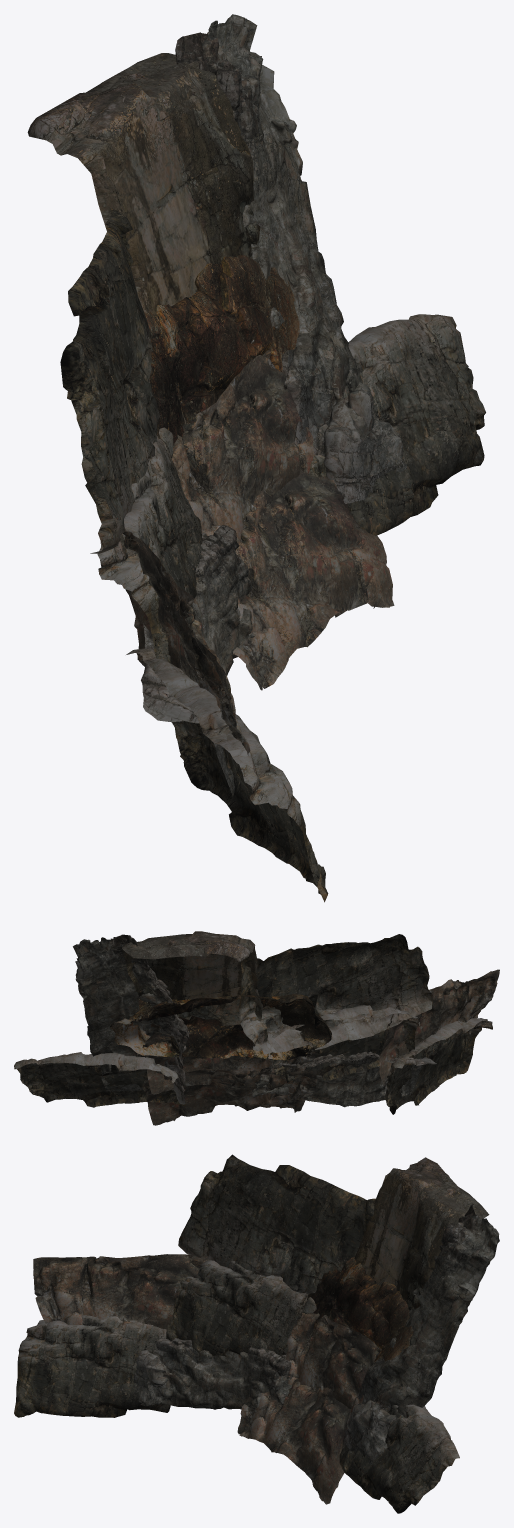
The model's file is Tempcliffs.fbx.
3 views of the same model, one above another, from view 1: azimuth 30°, elevation 25°; view 2: azimuth 150°, elevation 25°; view 3: azimuth 270°, elevation 25° (orthographic). The views are drawn at different scales.
Visible parts, largest first — view 1: qjycI_LOD0_TIER3_001.002, Rock1.003, Rock4.004, Rock6.004, Rock6.005, Rock2.002, Rock4.003, Rock6.002, Rock6.003, Rock1.002, Rock4.002; view 2: Rock6.004, Rock1.003, qjycI_LOD0_TIER3_001.002, Rock2.002, Rock6.005, Rock4.004, Rock6.002, Rock1.002, Rock4.002, Rock6.003, Rock4.003; view 3: Rock6.004, Rock1.003, Rock6.002, qjycI_LOD0_TIER3_001.002, Rock4.002, Rock6.003, Rock1.002, Rock4.004, Rock6.005, Rock4.003, Rock2.002.
Part boxes in pixels (box(x1,y1,x2,y2)): qjycI_LOD0_TIER3_001.002: box(27, 53, 260, 314); Rock1.003: box(175, 14, 407, 503); Rock4.004: box(233, 470, 394, 690); Rock6.004: box(60, 207, 159, 553); Rock6.005: box(308, 314, 485, 535); Rock2.002: box(144, 255, 299, 455); Rock4.003: box(171, 350, 314, 540); Rock6.002: box(126, 648, 328, 902); Rock6.003: box(97, 427, 204, 662); Rock1.002: box(141, 525, 254, 798); Rock4.002: box(123, 528, 250, 755); Rock6.004: box(239, 934, 432, 1053); Rock1.003: box(73, 934, 189, 1104); qjycI_LOD0_TIER3_001.002: box(122, 931, 261, 1025); Rock2.002: box(110, 994, 331, 1060); Rock6.005: box(14, 1052, 185, 1107); Rock4.004: box(142, 1067, 316, 1125); Rock6.002: box(384, 1018, 492, 1114); Rock1.002: box(252, 1051, 436, 1107); Rock4.002: box(379, 969, 499, 1081); Rock6.003: box(270, 1005, 419, 1082); Rock4.003: box(143, 1028, 316, 1094); Rock6.004: box(178, 1154, 375, 1294); Rock1.003: box(344, 1204, 499, 1465); Rock6.002: box(14, 1315, 170, 1417); qjycI_LOD0_TIER3_001.002: box(354, 1157, 489, 1311); Rock4.002: box(33, 1254, 209, 1329); Rock6.003: box(166, 1260, 316, 1357); Rock1.002: box(133, 1338, 296, 1412); Rock4.004: box(237, 1373, 351, 1504); Rock6.005: box(339, 1404, 459, 1513); Rock4.003: box(285, 1312, 381, 1412); Rock2.002: box(307, 1257, 413, 1361).
Size of the model in its own units: 9908 by 7993 by 12312.
